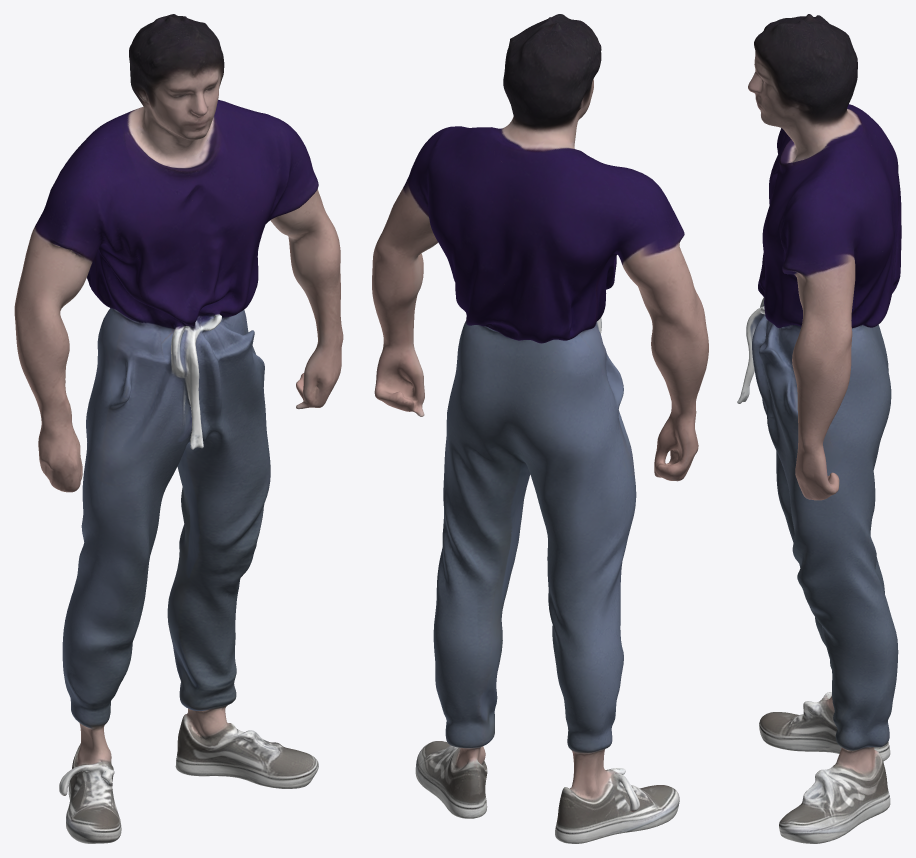
The model's file is serega-pirat.glb.
The picture shows the model from 3 angles, left to right: view 1: azimuth 30°, elevation 25°; view 2: azimuth 150°, elevation 25°; view 3: azimuth 270°, elevation 25°; orthographic projection. The views are drawn at different scales.
Size of the model in its own units: 0.8202 by 1.9 by 0.3688.
1 material, 1 textured.
